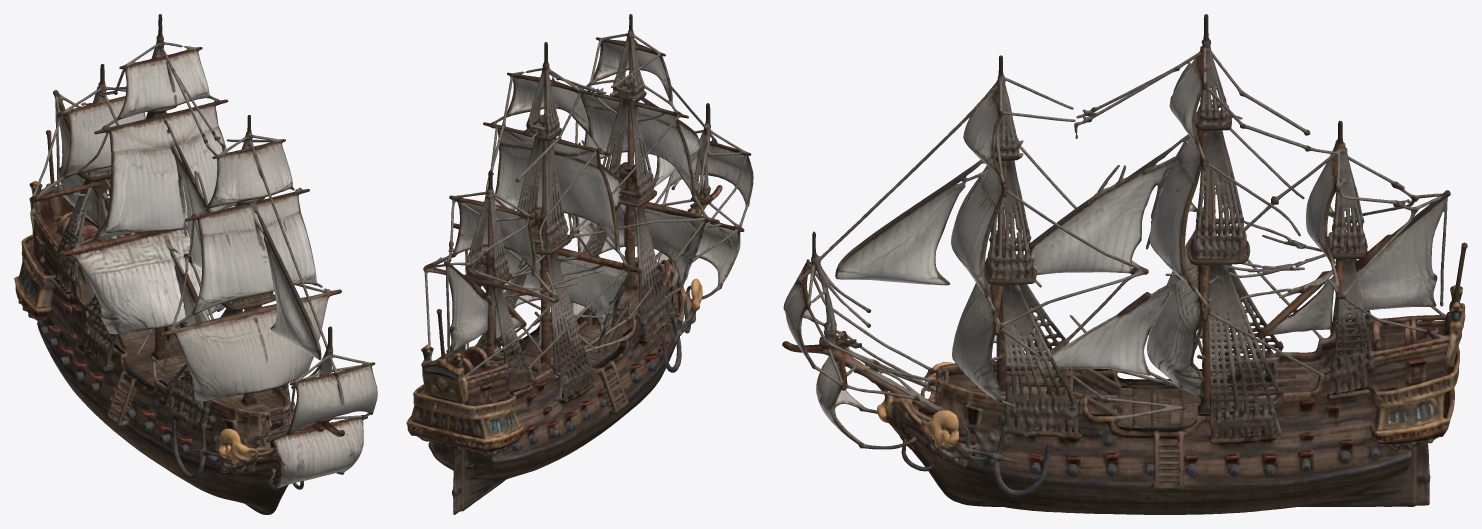
Rendered from Galleon.glb.
The picture shows the model from 3 angles, left to right: view 1: azimuth 30°, elevation 25°; view 2: azimuth 150°, elevation 25°; view 3: azimuth 270°, elevation 25°; orthographic projection. The views are drawn at different scales.
Parts seen in each view (by area): view 1: geometry_0; view 2: geometry_0; view 3: geometry_0.
Part boxes in pixels (left/top/right/bottom): geometry_0: left=14, top=14, right=377, bottom=514; geometry_0: left=406, top=14, right=753, bottom=514; geometry_0: left=782, top=14, right=1467, bottom=514.
Size of the model in its own units: 0.3864 by 0.793 by 1.
1 material, 1 textured.
